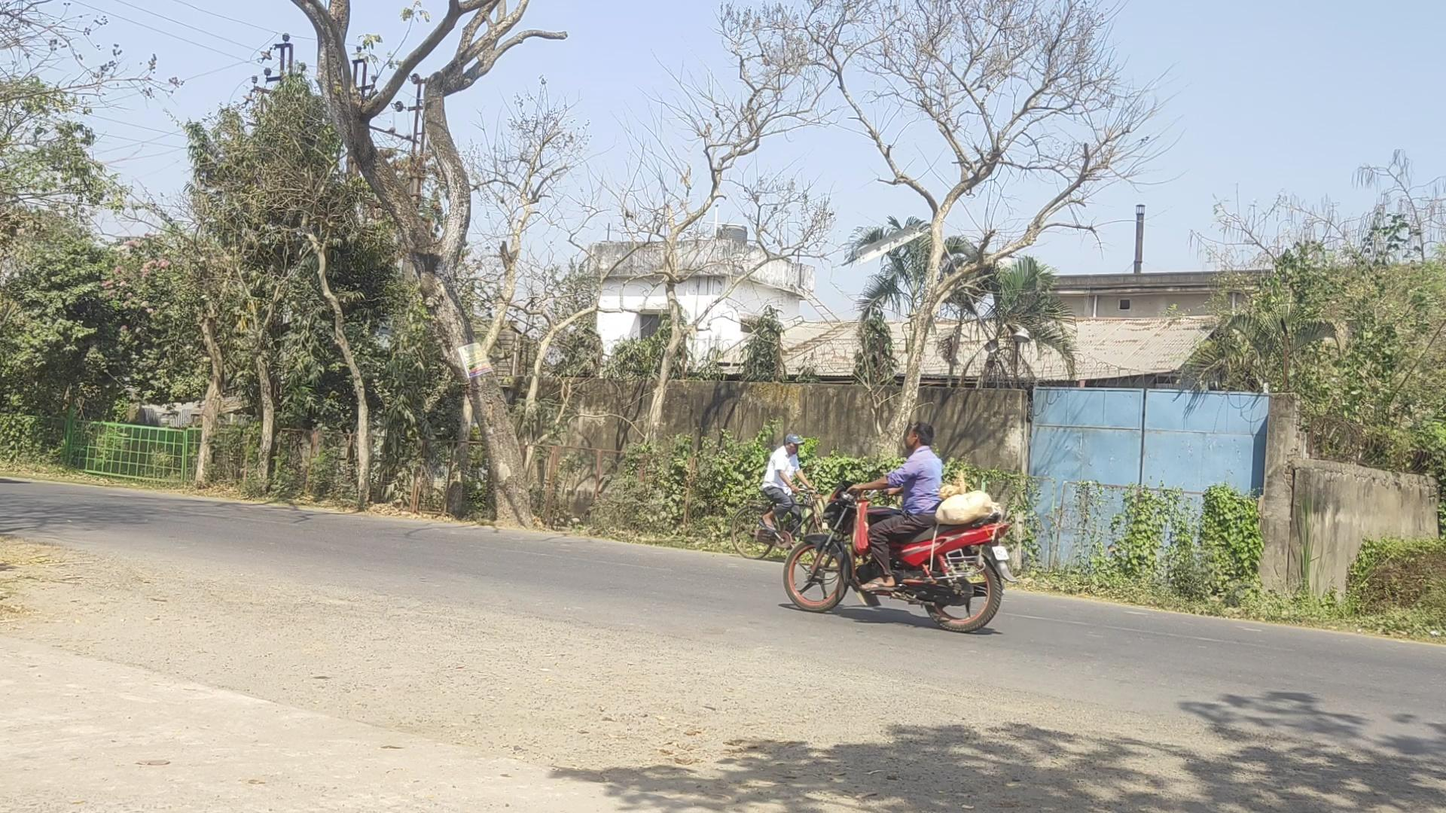bike: (782, 422, 1016, 632), (731, 432, 866, 571)
